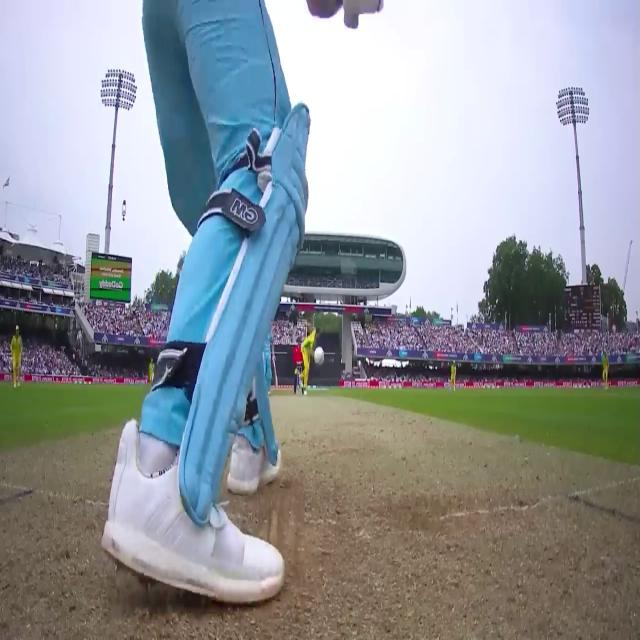ball: (310, 339, 326, 369)
